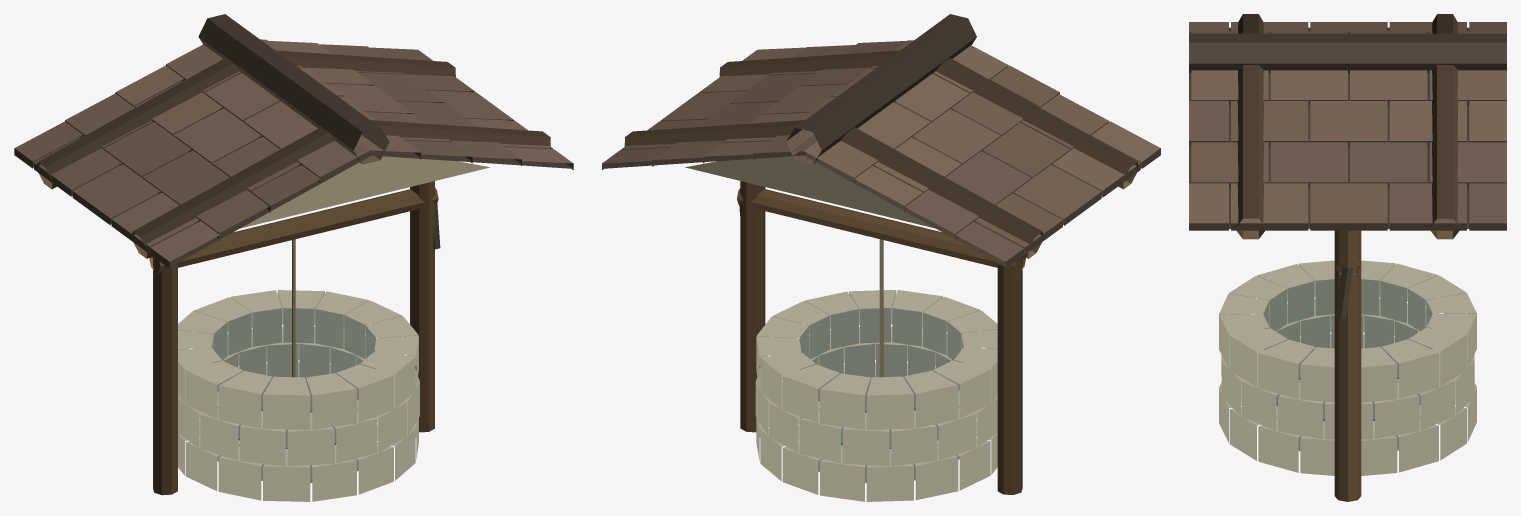
The picture shows the model from 3 angles, left to right: view 1: azimuth 30°, elevation 25°; view 2: azimuth 150°, elevation 25°; view 3: azimuth 270°, elevation 25°; orthographic projection. The views are drawn at different scales.
Visible parts, largest first — view 1: 2719353a934783385d69d7959a298274d69ac38823e05e5b89d12ae73715; view 2: 2719353a934783385d69d7959a298274d69ac38823e05e5b89d12ae73715; view 3: 2719353a934783385d69d7959a298274d69ac38823e05e5b89d12ae73715.
Part boxes in pixels (x1=…): 2719353a934783385d69d7959a298274d69ac38823e05e5b89d12ae73715: x1=14, y1=14, x2=573, y2=501; 2719353a934783385d69d7959a298274d69ac38823e05e5b89d12ae73715: x1=602, y1=14, x2=1160, y2=501; 2719353a934783385d69d7959a298274d69ac38823e05e5b89d12ae73715: x1=1189, y1=14, x2=1506, y2=501.
Bounding box in the file's own units: 2.74 × 2.46 × 1.8.
Materials: 6 (1 with a texture image).
